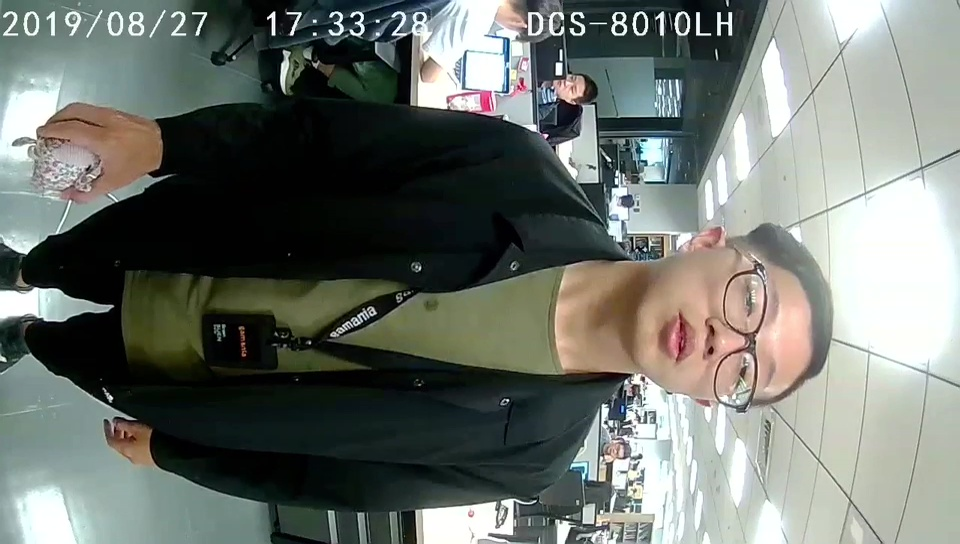pig: (29, 136, 104, 194)
